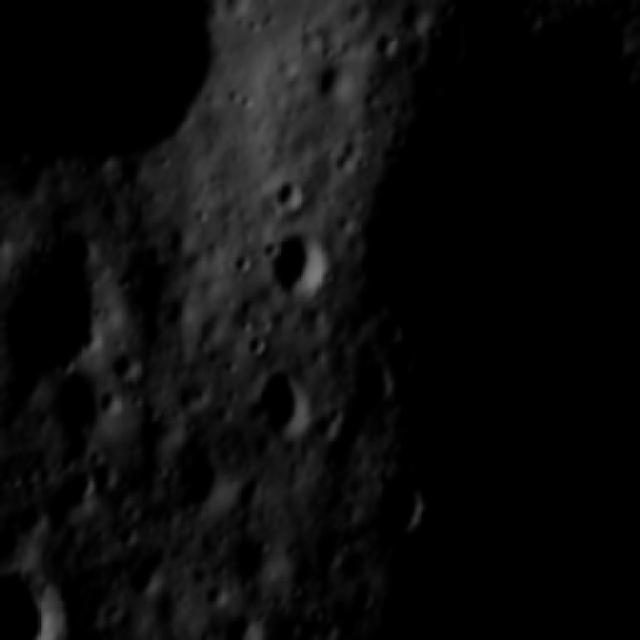crater: (0, 560, 91, 640), (245, 366, 326, 436), (364, 467, 436, 542), (263, 225, 331, 301), (164, 448, 238, 515), (51, 369, 117, 443), (416, 14, 476, 74), (47, 466, 96, 523), (109, 343, 158, 388), (264, 173, 308, 221), (89, 449, 123, 491), (369, 27, 402, 70), (390, 0, 424, 37), (348, 582, 380, 620), (222, 612, 261, 640)
